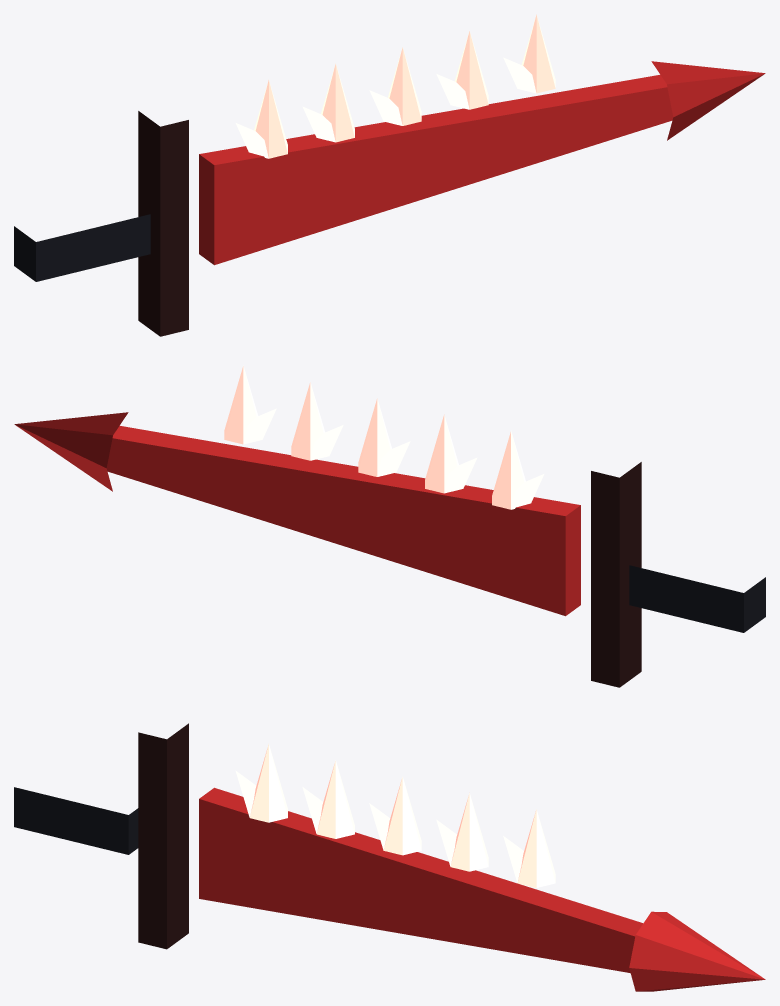
The model's file is desolator.glb.
3 renders of one model, top to bottom at view 1: azimuth 30°, elevation 25°; view 2: azimuth 150°, elevation 25°; view 3: azimuth 330°, elevation 25°, orthographic.
Parts seen in each view (by area): view 1: desolator-serrated-blade, desolator-guard, desolator-grip, desolator-tip, desolator-tooth-3, desolator-tooth-2, desolator-tooth-4, desolator-tooth-1, desolator-tooth-0; view 2: desolator-serrated-blade, desolator-guard, desolator-grip, desolator-tip, desolator-tooth-3, desolator-tooth-2, desolator-tooth-4, desolator-tooth-1, desolator-tooth-0; view 3: desolator-serrated-blade, desolator-guard, desolator-tip, desolator-grip, desolator-tooth-3, desolator-tooth-2, desolator-tooth-0, desolator-tooth-4, desolator-tooth-1.
Boxes of the visible parts, x1,y1,x2,y2 form: desolator-serrated-blade: [199, 75, 673, 265]; desolator-guard: [138, 111, 188, 336]; desolator-grip: [14, 214, 150, 281]; desolator-tip: [651, 61, 765, 140]; desolator-tooth-3: [436, 31, 488, 109]; desolator-tooth-2: [369, 47, 421, 125]; desolator-tooth-4: [503, 14, 555, 93]; desolator-tooth-1: [302, 63, 354, 142]; desolator-tooth-0: [235, 79, 287, 158]; desolator-serrated-blade: [106, 426, 580, 616]; desolator-guard: [591, 462, 641, 687]; desolator-grip: [629, 565, 765, 632]; desolator-tip: [14, 412, 128, 491]; desolator-tooth-3: [291, 382, 343, 460]; desolator-tooth-2: [358, 398, 410, 476]; desolator-tooth-4: [224, 365, 276, 444]; desolator-tooth-1: [425, 414, 477, 493]; desolator-tooth-0: [492, 430, 544, 509]; desolator-serrated-blade: [199, 787, 642, 972]; desolator-guard: [138, 723, 188, 949]; desolator-tip: [629, 911, 765, 991]; desolator-grip: [14, 787, 138, 854]; desolator-tooth-3: [436, 793, 488, 871]; desolator-tooth-2: [369, 776, 421, 855]; desolator-tooth-0: [235, 743, 287, 822]; desolator-tooth-4: [503, 809, 555, 887]; desolator-tooth-1: [302, 760, 354, 838].
Bounding box in the file's own units: 1.55 × 0.44 × 0.16.
